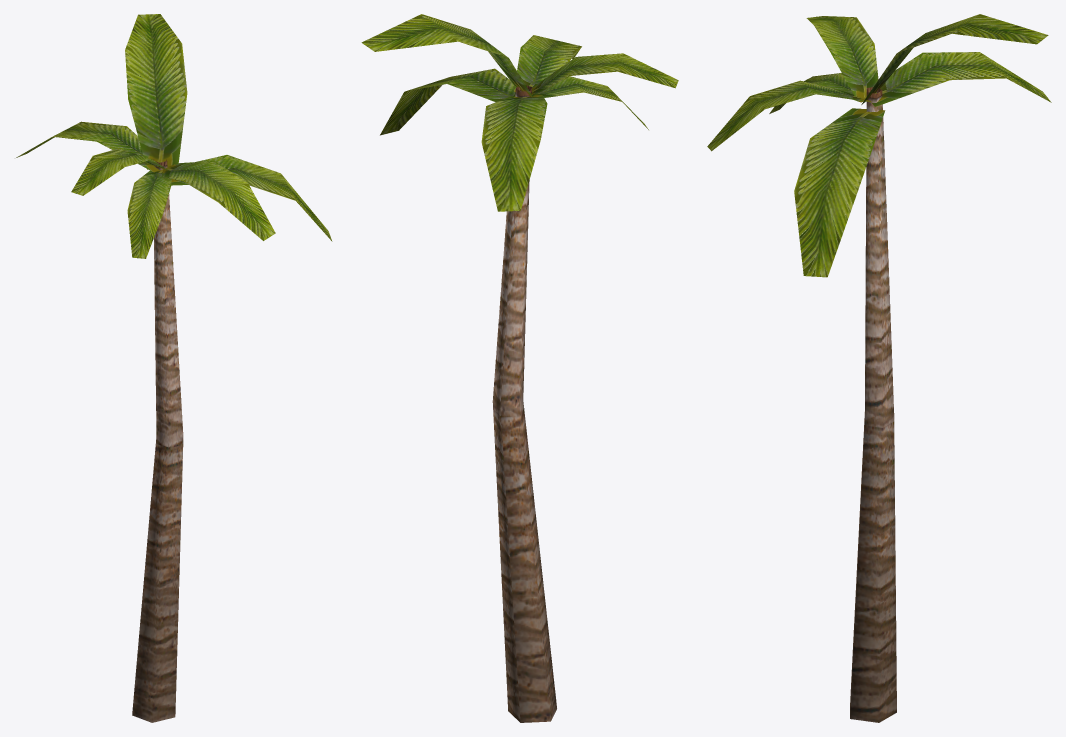
File: SM_PalmTree_01.fbx
The picture shows the model from 3 angles, left to right: view 1: azimuth 30°, elevation 25°; view 2: azimuth 150°, elevation 25°; view 3: azimuth 270°, elevation 25°; orthographic projection. The views are drawn at different scales.
Parts seen in each view (by area): view 1: SM_PalmTree_01; view 2: SM_PalmTree_01; view 3: SM_PalmTree_01.
Boxes of the visible parts, left/top/right/bottom form: SM_PalmTree_01: left=16, top=14, right=332, bottom=722; SM_PalmTree_01: left=361, top=14, right=678, bottom=722; SM_PalmTree_01: left=707, top=14, right=1051, bottom=722.
Size of the model in its own units: 1.64 by 3.79 by 1.66.
